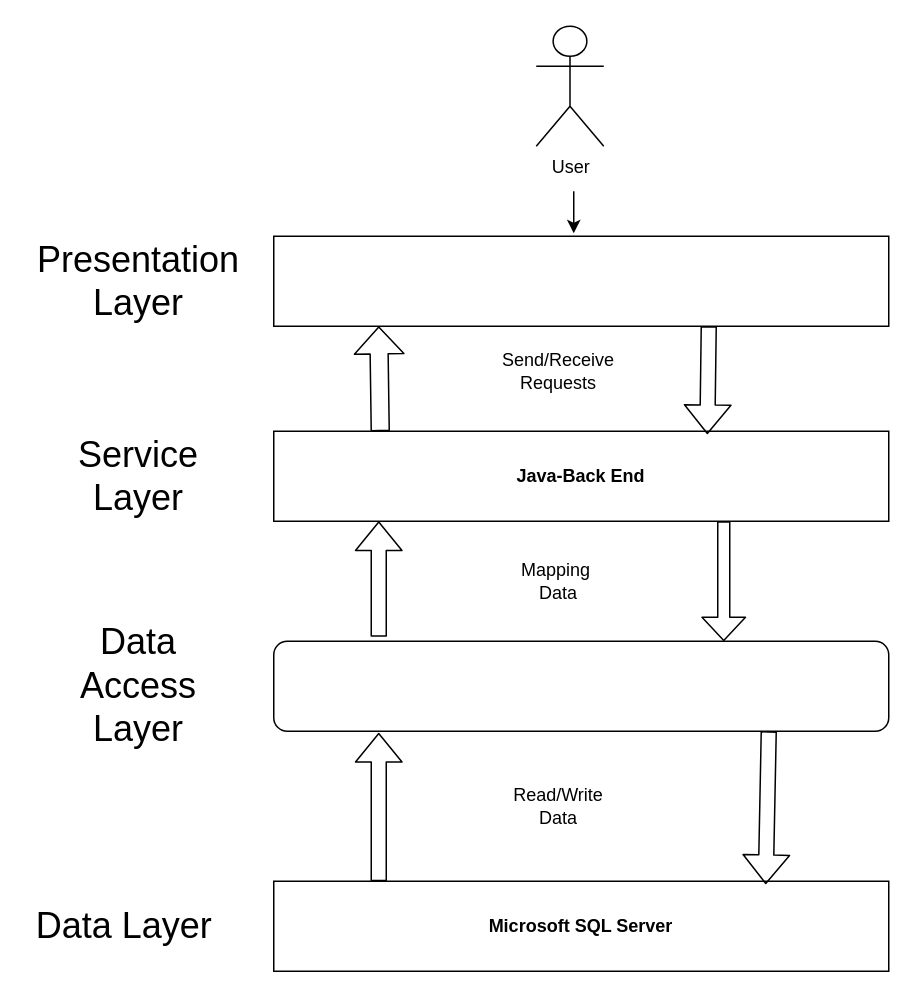
Some shapes in this 915 by 998 pixel diagram are drawn without their labels. The box of each missing label's shape, as (x1, y1, x2, y2) in pixels:
Angular-Front End: (272, 235, 889, 326)
Hibernate-ORM: (272, 640, 889, 731)
